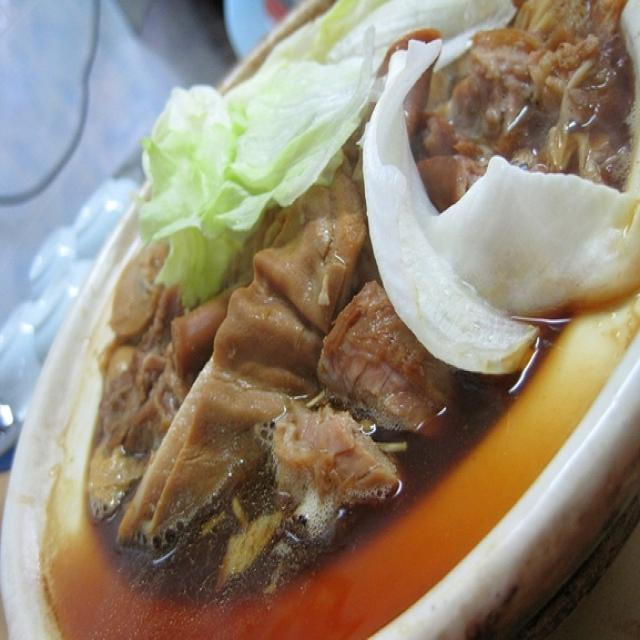汤锅炖物: (38, 18, 623, 618)
